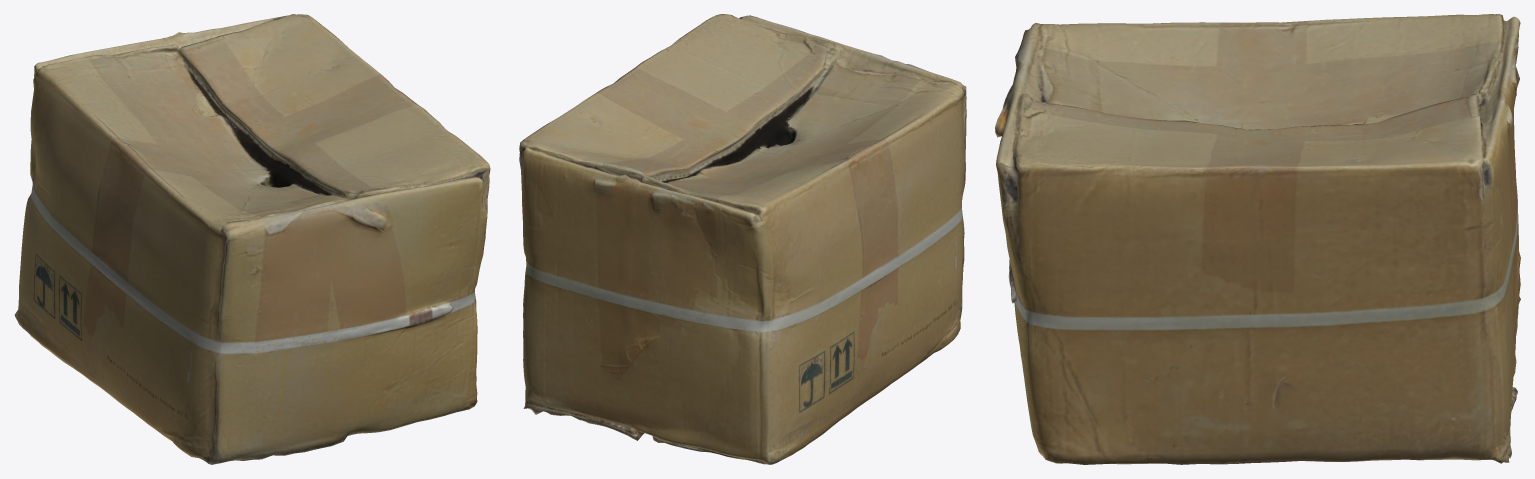
The model's file is cardboard_box_01.glb.
3 renders of one model, left to right at view 1: azimuth 30°, elevation 25°; view 2: azimuth 150°, elevation 25°; view 3: azimuth 270°, elevation 25°, orthographic. The views are drawn at different scales.
Visible parts, largest first — view 1: cardboard_box_01; view 2: cardboard_box_01; view 3: cardboard_box_01.
Boxes of the visible parts, box(x1,y1,x2,y2) form: cardboard_box_01: box(14, 14, 490, 464); cardboard_box_01: box(519, 14, 966, 464); cardboard_box_01: box(995, 14, 1520, 464).
Size of the model in its own units: 0.387 by 0.3418 by 0.5159.
1 material, 1 textured.
